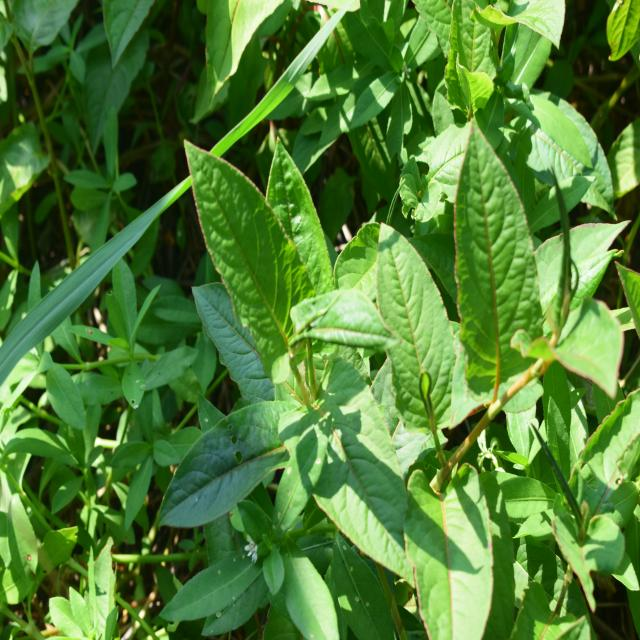Chinese_knotweed: (179, 140, 400, 573), (379, 156, 605, 424)
